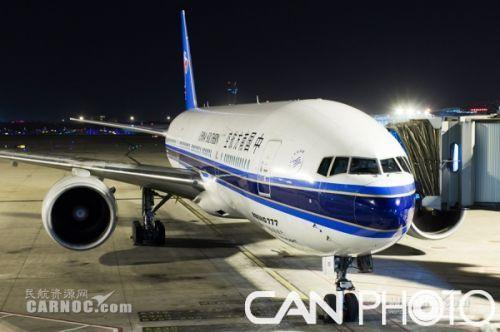airplane: (1, 9, 414, 290)
